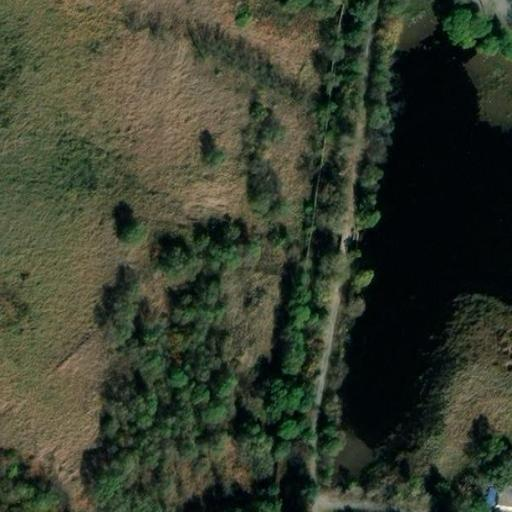building: (482, 480, 512, 510)
